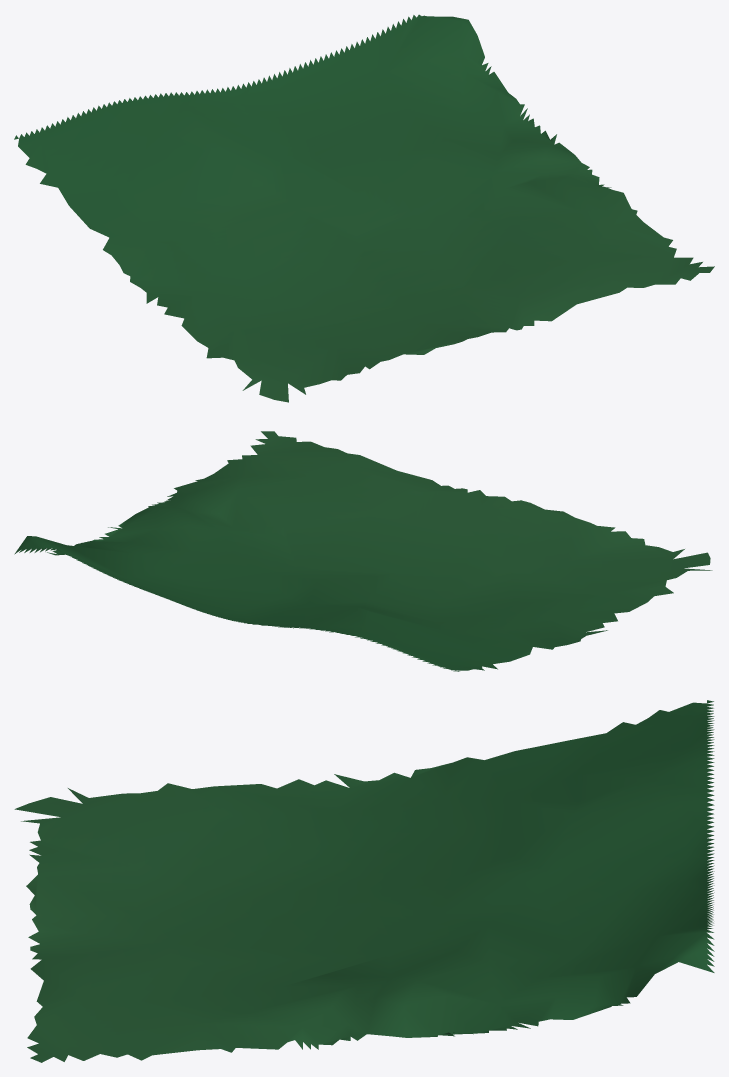
Rendered from payo_land_x1_y5_lod2.glb.
3 renders of one model, top to bottom at view 1: azimuth 30°, elevation 25°; view 2: azimuth 150°, elevation 25°; view 3: azimuth 270°, elevation 25°, orthographic. The views are drawn at different scales.
Parts seen in each view (by area): view 1: payo_land_x1_y5; view 2: payo_land_x1_y5; view 3: payo_land_x1_y5.
Part boxes in pixels (left/top/right/bottom): payo_land_x1_y5: left=14, top=14, right=714, bottom=402; payo_land_x1_y5: left=14, top=431, right=712, bottom=671; payo_land_x1_y5: left=14, top=700, right=714, bottom=1062.
Size of the model in its own units: 269 by 55.83 by 266.
